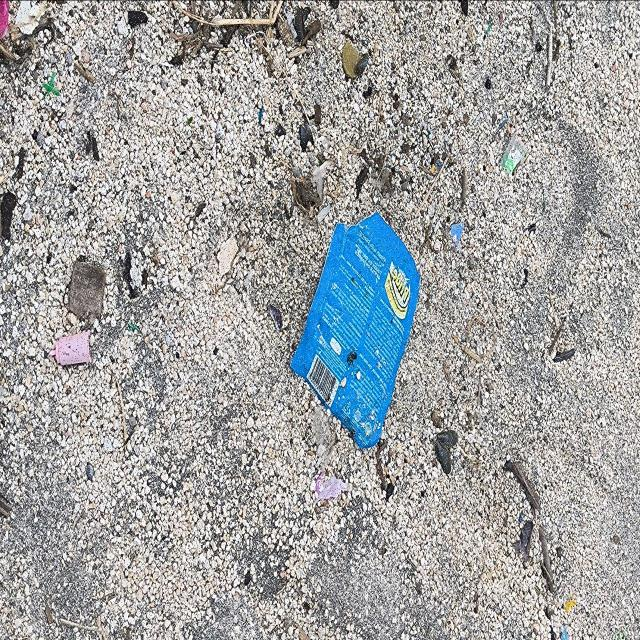plastic_waste: (292, 209, 423, 449)
